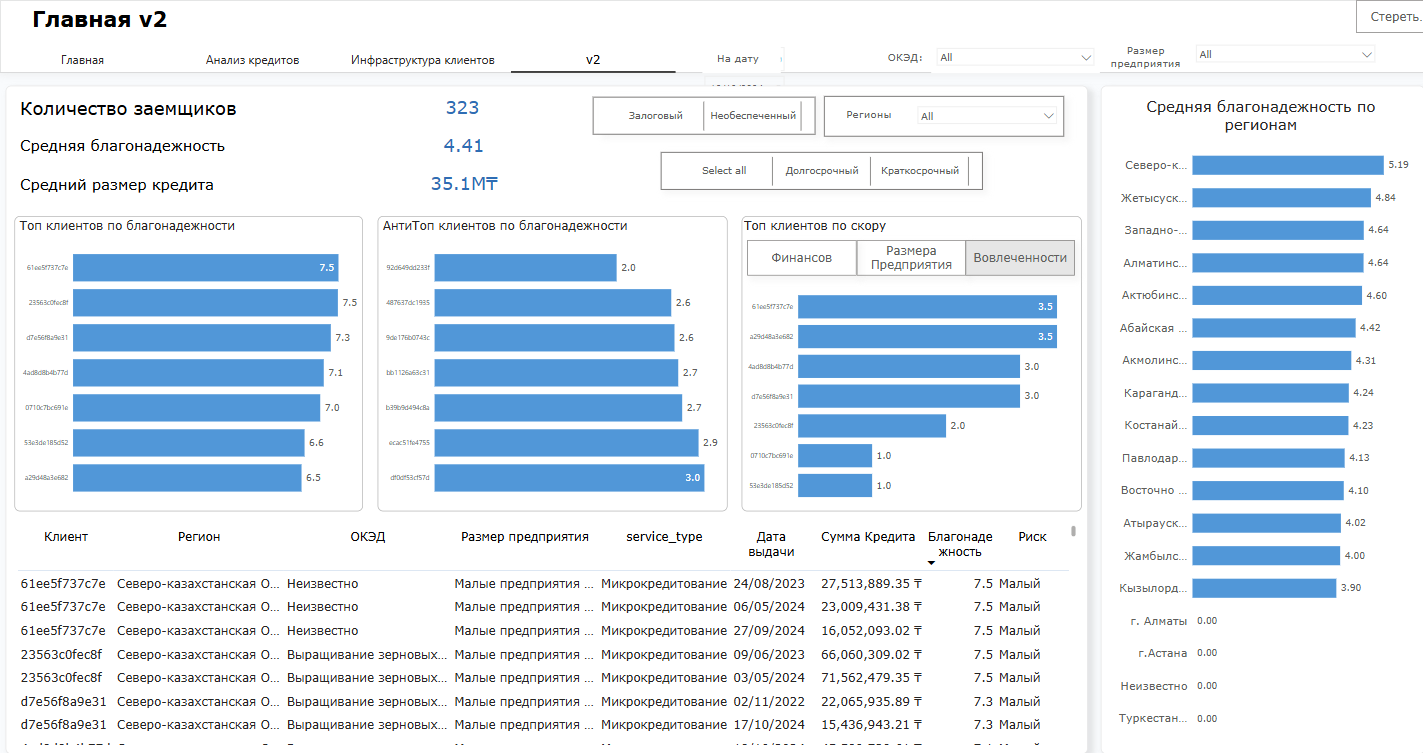

What the dashboard file says about the page in this screenshot:
{"tool":"powerbi","page":{"name":"v2","canvas":[2560,1360],"ordinal":5},"visuals":[{"type":"shape","box":[0,0,2560,130],"z":0,"group":"g10"},{"type":"slicer","fields":{"Values":["0 Размеры предприятий.krp_name"]},"box":[2125.3,69.1,340,56.2],"z":0,"group":"g11"},{"type":"slicer","fields":{"Values":["0 Business Type.business_type"]},"box":[1663.2,75.1,301.8,54.9],"z":0,"group":"g12"},{"type":"shape","box":[10,152.5,1932.5,1194.2],"z":0},{"type":"shape","box":[1965.8,153.3,579.2,1194.2],"z":0,"group":"g1"},{"type":"shape","box":[1069.8,168.5,386.3,70.4],"z":0,"group":"g9"},{"type":"shape","box":[1471.1,172.6,428.5,72],"z":0,"group":"g8"},{"type":"shape","box":[1180.9,269.5,574.2,67.2],"z":0,"group":"g7"},{"type":"shape","title":"Топ клиентов по скору","box":[1324,385.6,606.9,527.7],"z":0,"group":"g2"},{"type":"shape","title":"Фин. скор","box":[1334.7,428.8,195.1,63.3],"z":0,"group":"g3"},{"type":"shape","box":[1982.5,62.5,126.1,75],"z":1000,"group":"g11"},{"type":"shape","box":[1560,72.5,113.8,57.4],"z":1000,"group":"g12"},{"type":"pageNavigator","box":[0,80,1207,50],"z":1000,"group":"g10"},{"type":"group","id":"g1","title":"Средняя благонадежность по регионам","box":[1965.8,153.3,579.2,1194.2],"z":1000},{"type":"slicer","fields":{"Values":["0 Loan Security.loan_security"]},"box":[1058.7,172.5,398,67.9],"z":1000,"group":"g9"},{"type":"clusteredBarChart","title":"Средняя благонадежность по регионам","fields":{"Y":["Measures (2).Средняя благонадежность"],"Category":["0 Region.region"]},"box":[1981.5,174.9,539.9,1154.6],"z":1000,"group":"g1"},{"type":"slicer","fields":{"Values":["0 Region.region"]},"box":[1628.2,181,269.1,89.7],"z":1000,"group":"g8"},{"type":"slicer","fields":{"Values":["0 Credit Period Type.credit_period_type"]},"box":[1180.6,270.4,575.2,67.7],"z":1000,"group":"g7"},{"type":"shape","title":"Анализ кредитов","box":[47.5,0,802.5,67.5],"z":2000,"group":"g10"},{"type":"shape","box":[1470.7,172.1,160.6,63.5],"z":2000,"group":"g8"},{"type":"tableEx","fields":{"Values":["0 Client ID.client_id","0 Region.region","0 Business Type.business_type","0 Размеры предприятий.krp_name","0 Service Type.service_type","1 MFO_contracts.credit_issue_date","Sum(1 MFO_contracts.credit_sum)","1 Scores.Final_Score","0 Risk Group.Группа риска"]},"box":[25.2,932.5,1900.7,403],"z":2000},{"type":"group","id":"g2","title":"Клиенты по","box":[1324,385.6,606.9,529.6],"z":3000},{"type":"shape","title":"Размер","box":[1529.8,428.8,195.1,63.3],"z":3000,"group":"g3"},{"type":"clusteredBarChart","title":"Вовлеченность","fields":{"Category":["0 Client ID.client_id"],"Y":["Measures (2).Средний вовлеченность скор"]},"box":[1324.7,493.1,600.2,422.2],"z":3000,"group":"g2"},{"type":"group","id":"g3","title":"Скоры","box":[1334.7,428.8,585.2,63.5],"z":3500,"group":"g2"},{"type":"clusteredBarChart","title":"АнтиТоп клиентов по благонадежности","fields":{"Category":["0 Client ID.client_id"],"Y":["Max(1 Scores.Final_Score)"]},"box":[673.8,385.6,625.2,527.7],"z":4000},{"type":"shape","title":"Вовлеченность1","box":[1724.8,428.8,195.1,63.3],"z":4000,"group":"g3"},{"type":"clusteredBarChart","title":"Топ клиентов по благонадежности","fields":{"Category":["0 Client ID.client_id"],"Y":["Max(1 Scores.Final_Score)"]},"box":[25.2,385.6,621.9,527.7],"z":5000},{"type":"group","id":"g4","title":"Средний размер кредита","box":[26.2,302.1,936.4,53.7],"z":6000},{"type":"group","id":"g5","title":"Средняя благонадежность","box":[26.2,225.3,936.4,69.1],"z":7000},{"type":"shape","box":[26.2,233,620.2,51.8],"z":7000,"group":"g5"},{"type":"group","id":"g6","title":"Кол-во заемщиков","box":[26.3,166.2,934.3,52],"z":8000},{"type":"shape","box":[26.2,302.1,620.2,53.7],"z":8000,"group":"g4"},{"type":"group","id":"g7","title":"Статус","box":[1180.6,269.5,574.2,67.2],"z":9000},{"type":"group","id":"g8","title":"Регионы","box":[1470.7,172.1,427.7,98.3],"z":10000},{"type":"group","id":"g9","title":"Залоговый/необеспеченный","box":[1058.7,168.5,398,71.9],"z":11000},{"type":"group","id":"g10","title":"Navigation bar","box":[0,0,2560,130],"z":12000},{"type":"actionButton","box":[2421.2,0,138.8,58.8],"z":13000},{"type":"group","id":"g11","title":"Размер предприятия","box":[1982.5,62.5,482.5,75],"z":14000},{"type":"card","title":"Средний размер кредита","fields":{"Values":["Measures (2).Средняя сумма кредита"]},"box":[694.5,304,268.1,48],"z":14000,"group":"g4"},{"type":"group","id":"g12","title":"ОКЭД","box":[1560,72.5,405,57.5],"z":15000},{"type":"card","title":"Средняя благонадежность","fields":{"Values":["Measures (2).Средняя благонадежность"]},"box":[694.5,225.3,268.1,69.1],"z":15000,"group":"g5"},{"type":"group","id":"g13","title":"Дата","box":[1245,70,307.5,82.5],"z":16000},{"type":"card","title":"Кол-во заемщиков","fields":{"Values":["Measures (2).Количество заемщиков"]},"box":[692.5,167.8,268.1,48],"z":16000,"group":"g6"},{"type":"shape","box":[26.3,166.2,620.2,52],"z":17000,"group":"g6"},{"type":"slicer","title":"Дата","fields":{"Values":["3 Date.Dates"]},"box":[1245,73.9,307.5,78.6],"z":25000,"group":"g13"},{"type":"shape","box":[1253.8,75,140,55],"z":25250,"group":"g13"},{"type":"shape","box":[1251.2,70,132.5,67.5],"z":25500,"group":"g13"}]}

Visuals, with their boxes on the page's 2560x1360 design canvas (x1, y1, x2, y2). These are canvas units, not pixel positions in the 1423x753 screenshot, which may show the page scaled, cropped or inside an application window:
shape: (left=0, top=0, right=2560, bottom=130)
slicer - 0 Размеры предприятий.krp_name: (left=2125, top=69, right=2465, bottom=125)
slicer - 0 Business Type.business_type: (left=1663, top=75, right=1965, bottom=130)
shape: (left=10, top=152, right=1942, bottom=1347)
shape: (left=1966, top=153, right=2545, bottom=1348)
shape: (left=1070, top=168, right=1456, bottom=239)
shape: (left=1471, top=173, right=1900, bottom=245)
shape: (left=1181, top=270, right=1755, bottom=337)
"Топ клиентов по скору" shape: (left=1324, top=386, right=1931, bottom=913)
"Фин. скор" shape: (left=1335, top=429, right=1530, bottom=492)
shape: (left=1982, top=62, right=2109, bottom=138)
shape: (left=1560, top=72, right=1674, bottom=130)
pageNavigator: (left=0, top=80, right=1207, bottom=130)
"Средняя благонадежность по регионам" group: (left=1966, top=153, right=2545, bottom=1348)
slicer - 0 Loan Security.loan_security: (left=1059, top=172, right=1457, bottom=240)
"Средняя благонадежность по регионам" clusteredBarChart: (left=1982, top=175, right=2521, bottom=1330)
slicer - 0 Region.region: (left=1628, top=181, right=1897, bottom=271)
slicer - 0 Credit Period Type.credit_period_type: (left=1181, top=270, right=1756, bottom=338)
"Анализ кредитов" shape: (left=48, top=0, right=850, bottom=68)
shape: (left=1471, top=172, right=1631, bottom=236)
tableEx - 0 Client ID.client_id x 0 Region.region: (left=25, top=932, right=1926, bottom=1336)
"Клиенты по" group: (left=1324, top=386, right=1931, bottom=915)
"Размер" shape: (left=1530, top=429, right=1725, bottom=492)
"Вовлеченность" clusteredBarChart: (left=1325, top=493, right=1925, bottom=915)
"Скоры" group: (left=1335, top=429, right=1920, bottom=492)
"АнтиТоп клиентов по благонадежности" clusteredBarChart: (left=674, top=386, right=1299, bottom=913)
"Вовлеченность1" shape: (left=1725, top=429, right=1920, bottom=492)
"Топ клиентов по благонадежности" clusteredBarChart: (left=25, top=386, right=647, bottom=913)
"Средний размер кредита" group: (left=26, top=302, right=963, bottom=356)
"Средняя благонадежность" group: (left=26, top=225, right=963, bottom=294)
shape: (left=26, top=233, right=646, bottom=285)
"Кол-во заемщиков" group: (left=26, top=166, right=961, bottom=218)
shape: (left=26, top=302, right=646, bottom=356)
"Статус" group: (left=1181, top=270, right=1755, bottom=337)
"Регионы" group: (left=1471, top=172, right=1898, bottom=270)
"Залоговый/необеспеченный" group: (left=1059, top=168, right=1457, bottom=240)
"Navigation bar" group: (left=0, top=0, right=2560, bottom=130)
actionButton: (left=2421, top=0, right=2560, bottom=59)
"Размер предприятия" group: (left=1982, top=62, right=2465, bottom=138)
"Средний размер кредита" card: (left=694, top=304, right=963, bottom=352)
"ОКЭД" group: (left=1560, top=72, right=1965, bottom=130)
"Средняя благонадежность" card: (left=694, top=225, right=963, bottom=294)
"Дата" group: (left=1245, top=70, right=1552, bottom=152)
"Кол-во заемщиков" card: (left=692, top=168, right=961, bottom=216)
shape: (left=26, top=166, right=646, bottom=218)
"Дата" slicer: (left=1245, top=74, right=1552, bottom=152)
shape: (left=1254, top=75, right=1394, bottom=130)
shape: (left=1251, top=70, right=1384, bottom=138)
